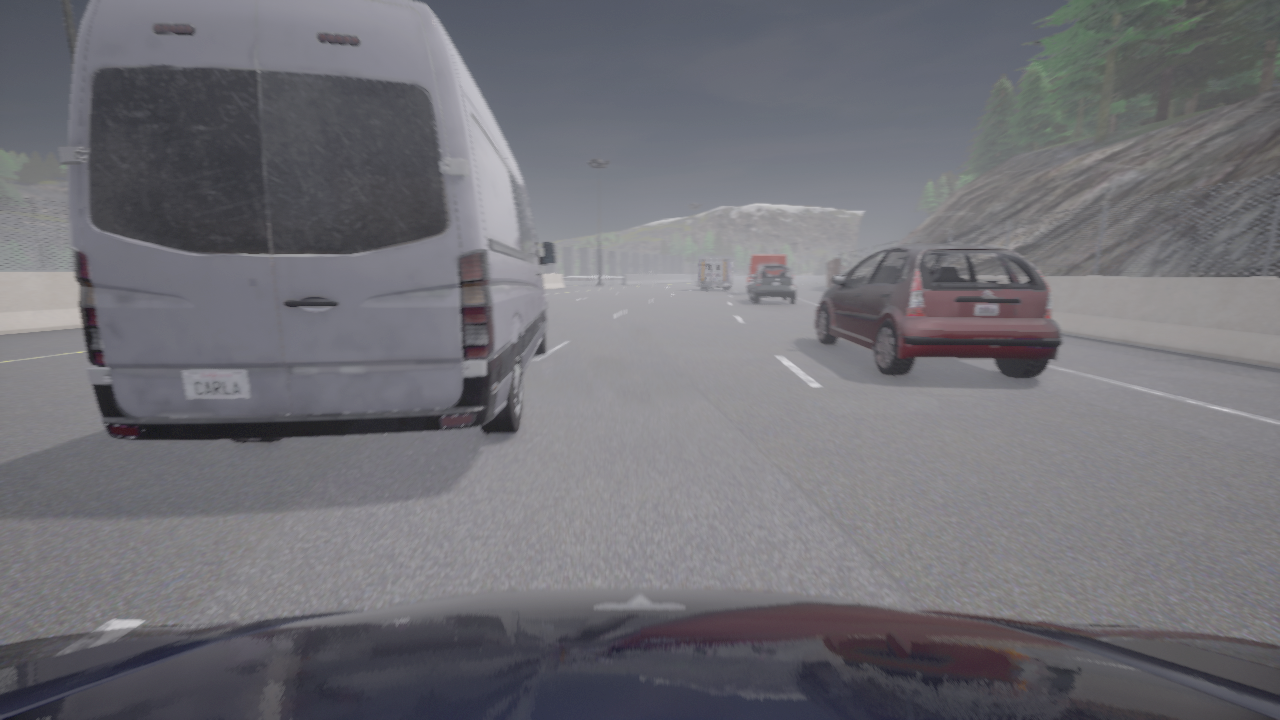cyclist: (58, 0, 556, 442), (0, 588, 1279, 719), (815, 244, 1062, 378), (751, 265, 797, 303), (745, 254, 787, 293), (698, 257, 737, 290)
